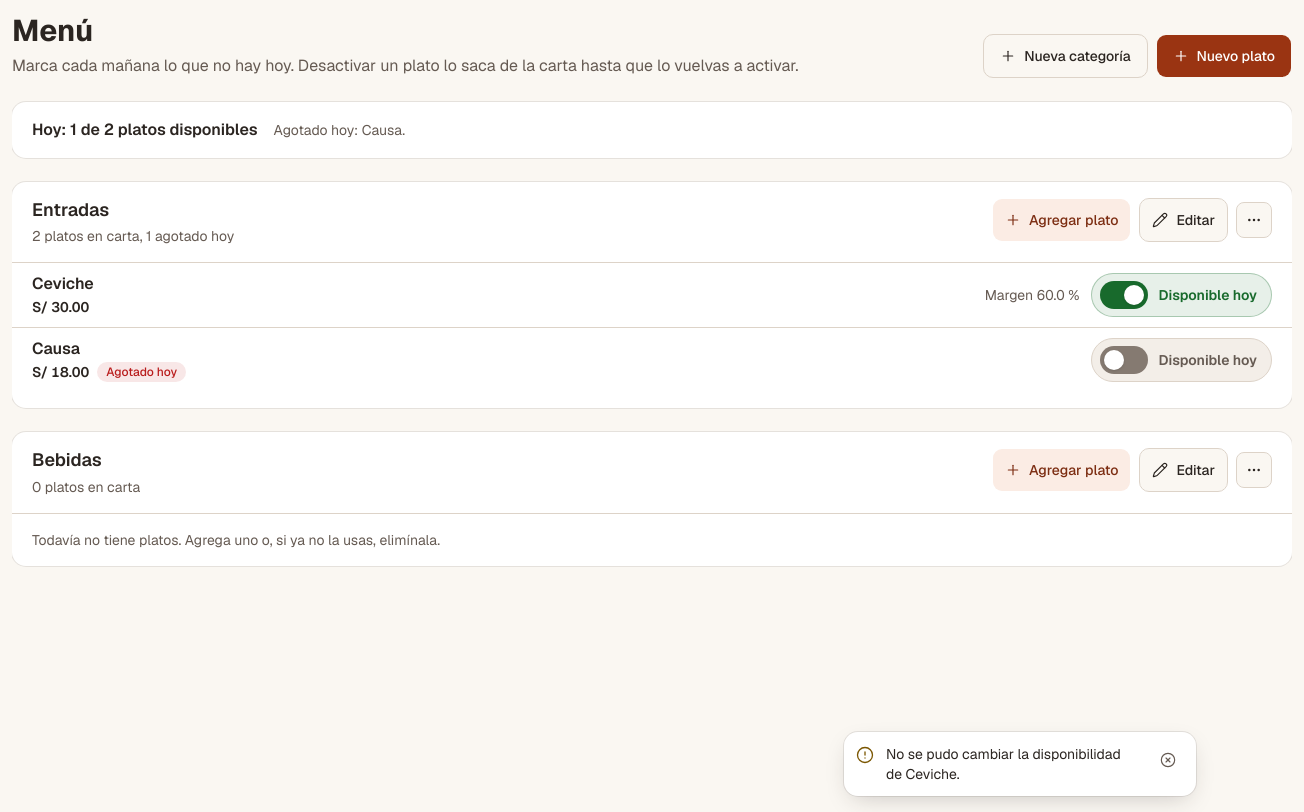
it: MenuView: disponible hoy › si el servidor lo rechaza, vuelve atrás y avisa
What coordinates should you click on to do the following:
click the switch named "Disponible hoy: Ceviche"
I would click on:
 (1182, 295)
Its box is [1092,273,1272,317].
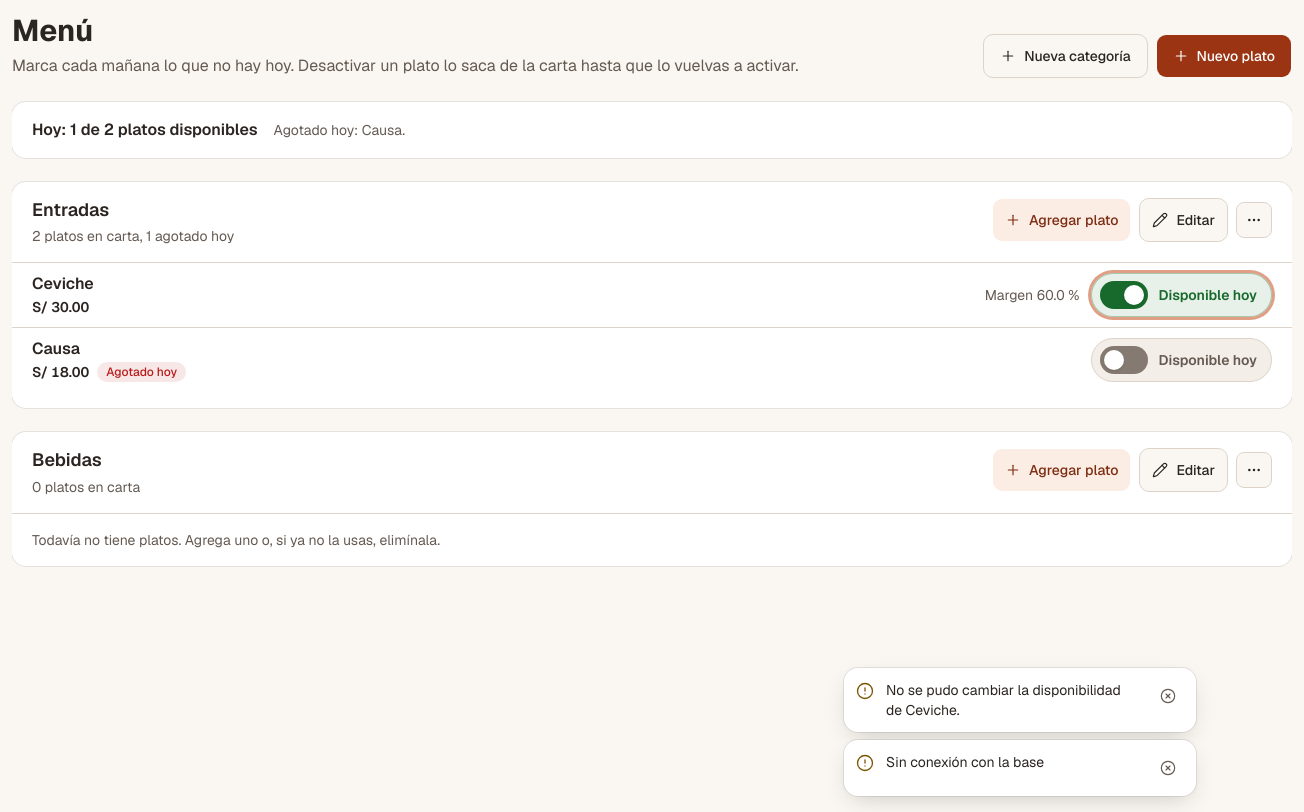
Expected: the text "Sin conexión con la base" is shown, [886,753,1044,771]
